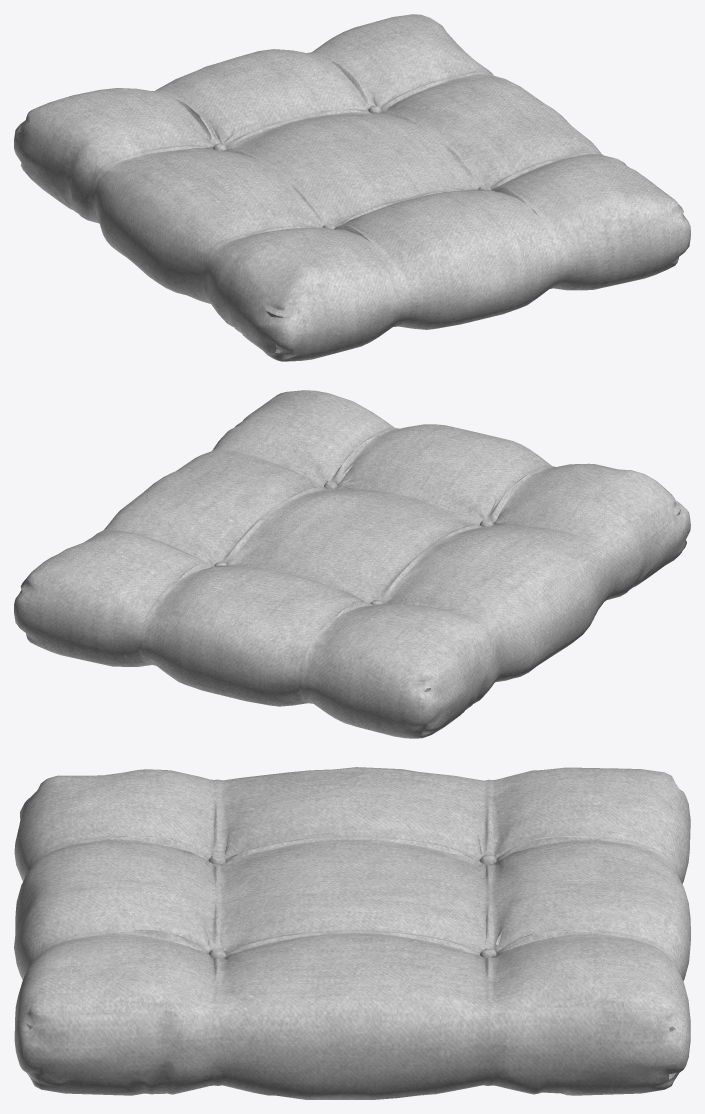
3 views of the same model, one above another, from view 1: azimuth 30°, elevation 25°; view 2: azimuth 150°, elevation 25°; view 3: azimuth 270°, elevation 25° (orthographic). The views are drawn at different scales.
Parts seen in each view (by area): view 1: solid; view 2: solid; view 3: solid.
Part boxes in pixels (x1,y1,x2,y2): solid: (14, 14, 690, 361); solid: (14, 390, 690, 738); solid: (14, 767, 690, 1099).
Bounding box in the file's own units: 1.65 × 0.3316 × 1.82.
Materials: 1 (1 with a texture image).
